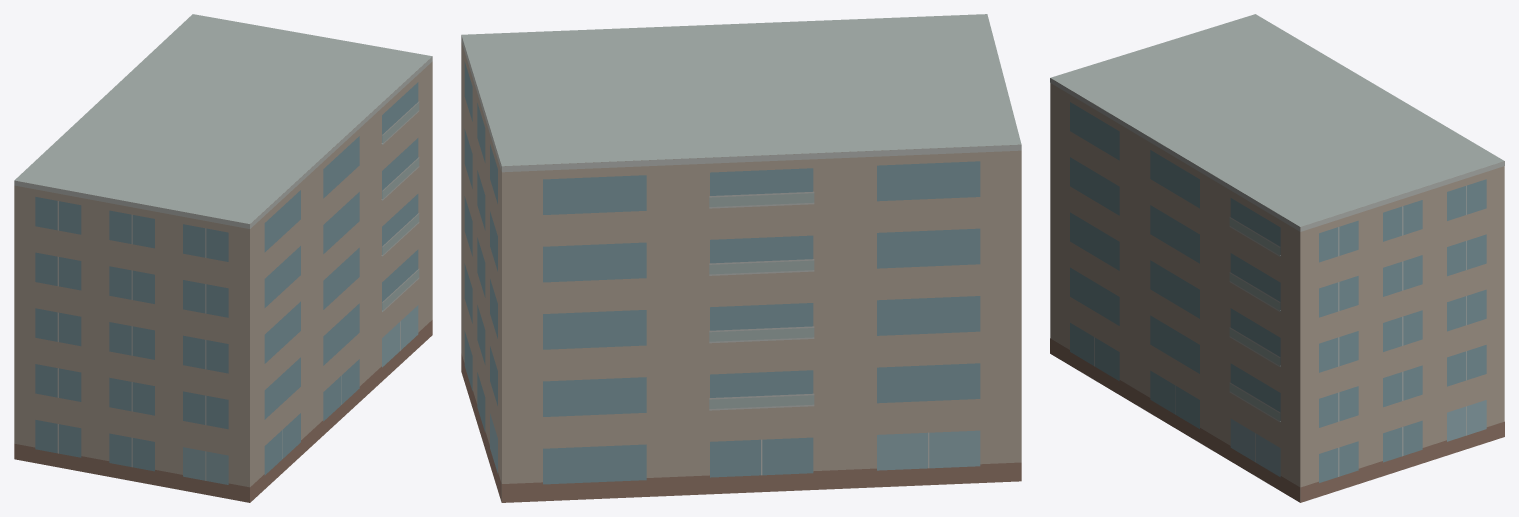
Rendered from survey-upis-32828959.glb.
The picture shows the model from 3 angles, left to right: view 1: azimuth 30°, elevation 25°; view 2: azimuth 150°, elevation 25°; view 3: azimuth 270°, elevation 25°; orthographic projection. The views are drawn at different scales.
Visible parts, largest first — view 1: survey-upis-32828959.tmp; view 2: survey-upis-32828959.tmp; view 3: survey-upis-32828959.tmp.
Boxes of the visible parts, x1,y1,x2,y2 form: survey-upis-32828959.tmp: [14, 14, 432, 502]; survey-upis-32828959.tmp: [461, 14, 1021, 502]; survey-upis-32828959.tmp: [1050, 14, 1504, 502].
Bounding box in the file's own units: 22.53 × 13.6 × 20.32.
